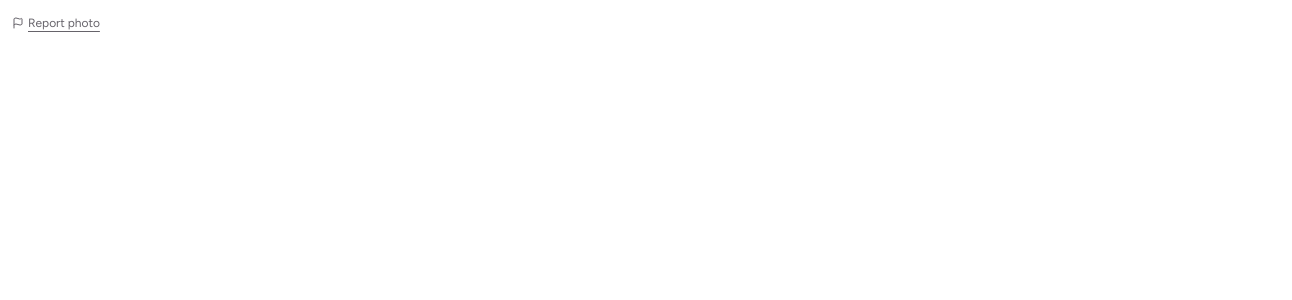
tells a Tutor reporting their own photo to change it in My Account
The width and height of the screenshot is (1292, 300).
Click the button "Report photo" at (56, 23), box [12, 15, 100, 31]
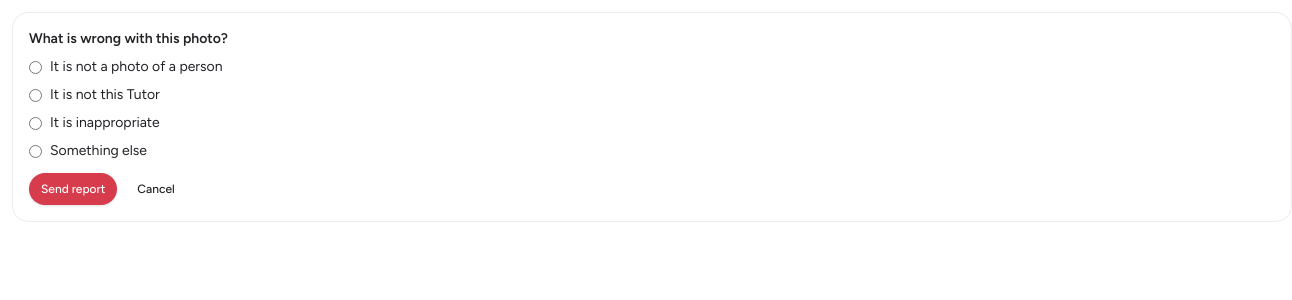
Click the radio button labelled "Something else" at (36, 151), box [29, 144, 42, 158]
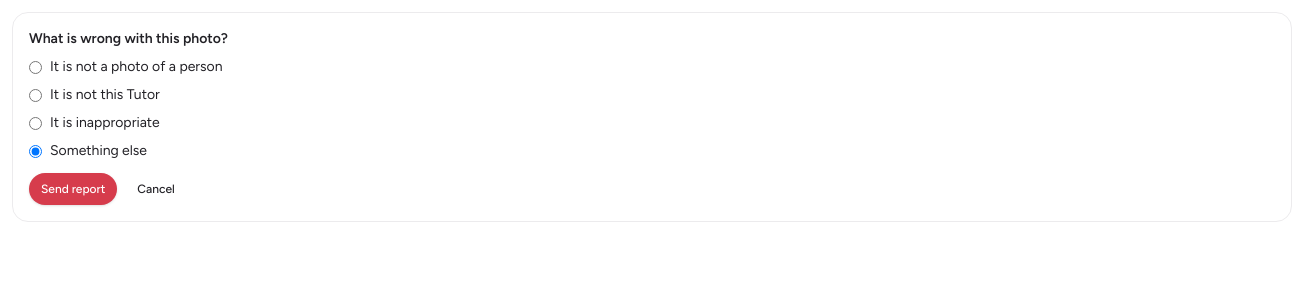
Click the button "Send report" at (73, 189), box [29, 173, 117, 205]
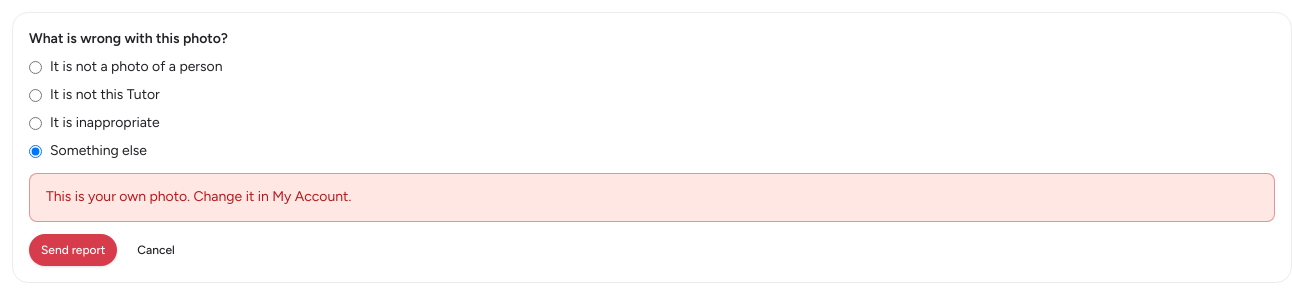
Check: the text "This is your own photo. Change it in My Account." is shown, box [29, 173, 1275, 222]
